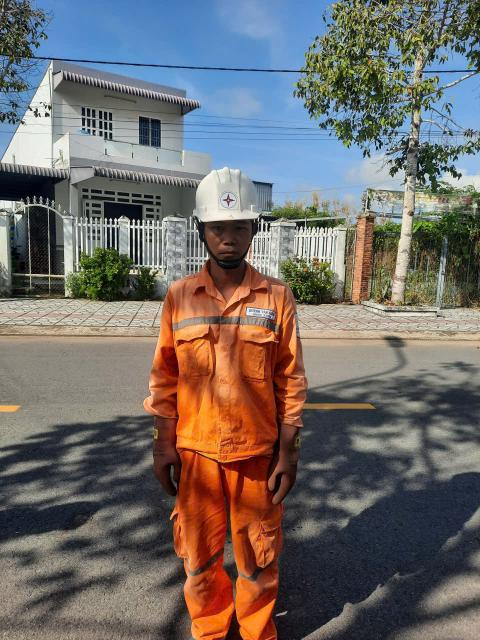gloves: (134, 408, 198, 499), (267, 408, 314, 511)
helmet: (169, 149, 279, 240)
